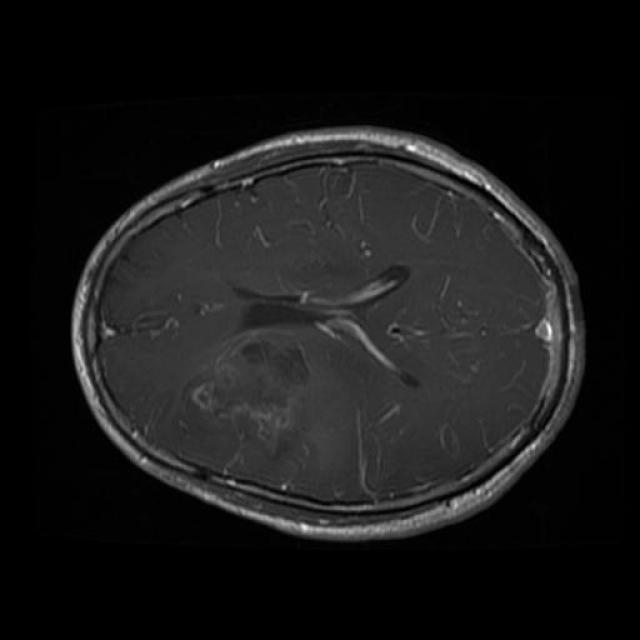Glioma: (187, 330, 310, 456)
